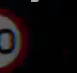Speed limit: (0, 6, 28, 72)
